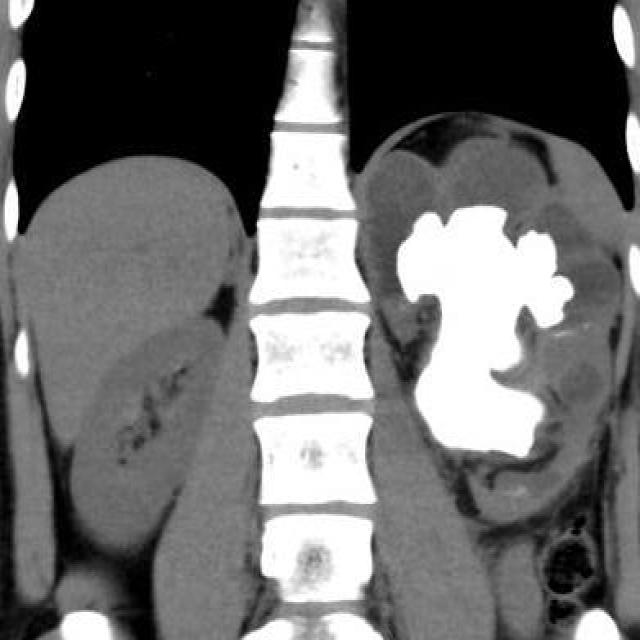Tas_Var: (394, 191, 578, 465), (549, 327, 577, 341), (582, 318, 595, 332)
